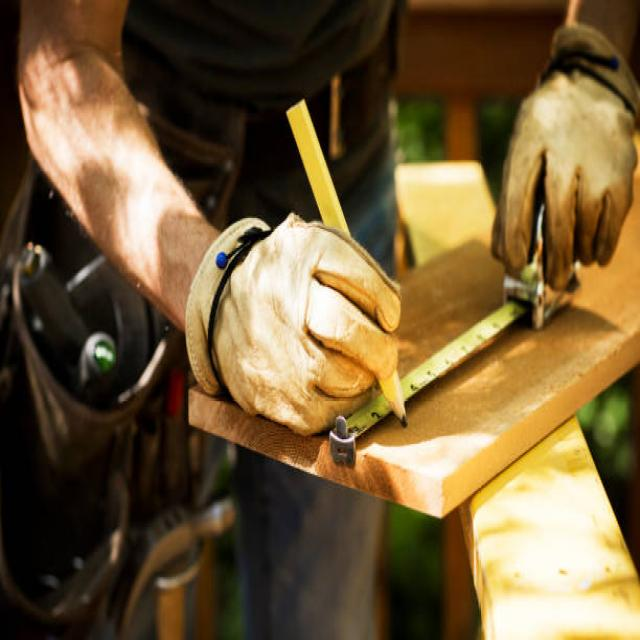gloves: (189, 213, 403, 436), (489, 27, 640, 288)
